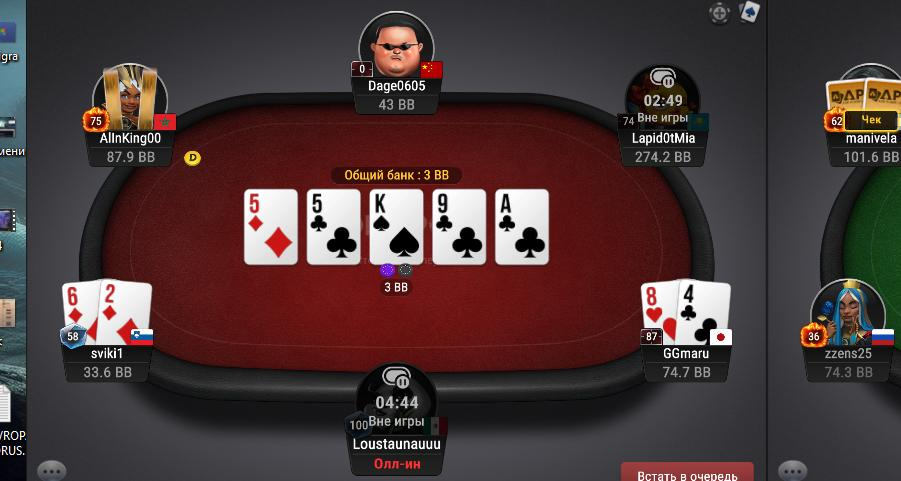2d: (101, 279, 151, 343)
4c: (677, 281, 727, 345)
5c: (307, 189, 360, 262)
5d: (245, 190, 297, 264)
6d: (62, 281, 101, 345)
8h: (641, 281, 679, 345)
9c: (433, 189, 487, 265)
Ac: (496, 189, 547, 264)
Ks: (371, 190, 423, 265)
